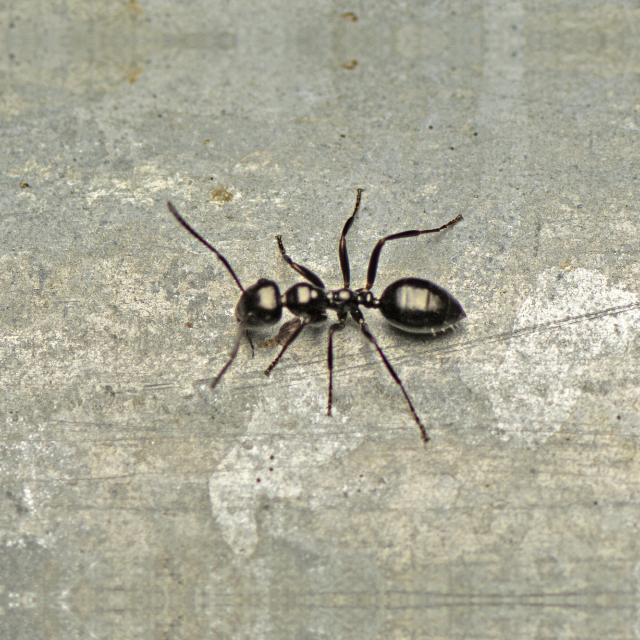Colobopsis: (186, 218, 494, 384)
